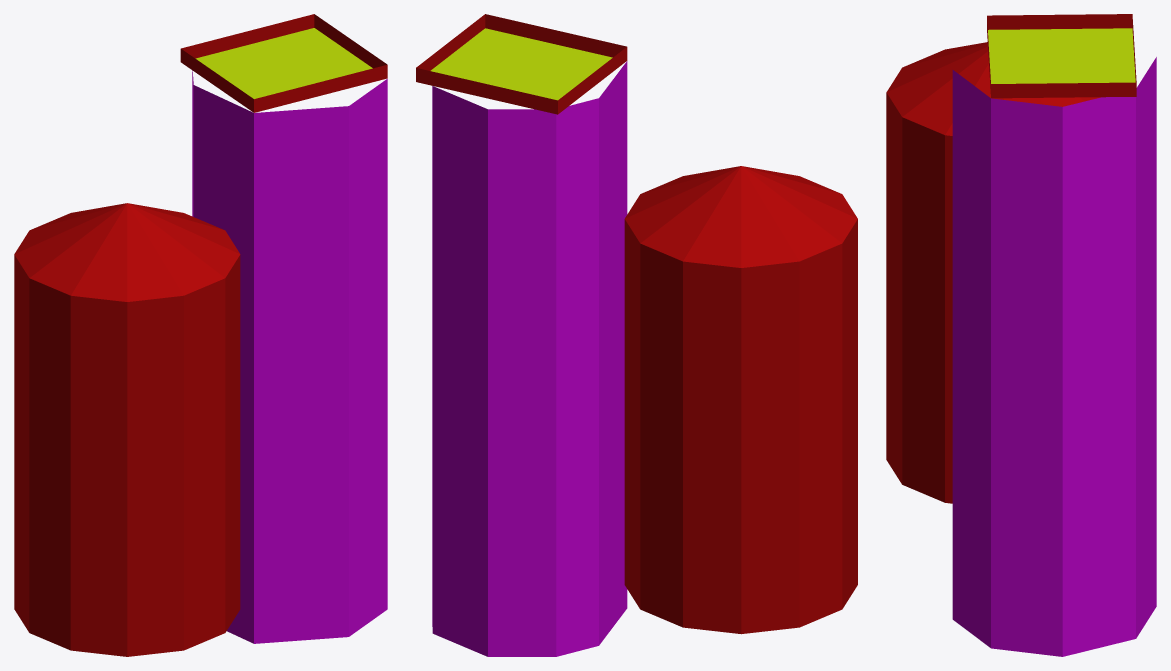
File: svc_84.glb
3 views of the same model, side by side, from view 1: azimuth 30°, elevation 25°; view 2: azimuth 150°, elevation 25°; view 3: azimuth 270°, elevation 25° (orthographic). The views are drawn at different scales.
Parts seen in each view (by area): view 1: svc_84; view 2: svc_84; view 3: svc_84.
Part boxes in pixels (<box>): svc_84: <box>14,14,387,656</box>; svc_84: <box>416,14,857,656</box>; svc_84: <box>886,14,1156,656</box>.
Bounding box in the file's own units: 9.8 × 13.82 × 5.99.
